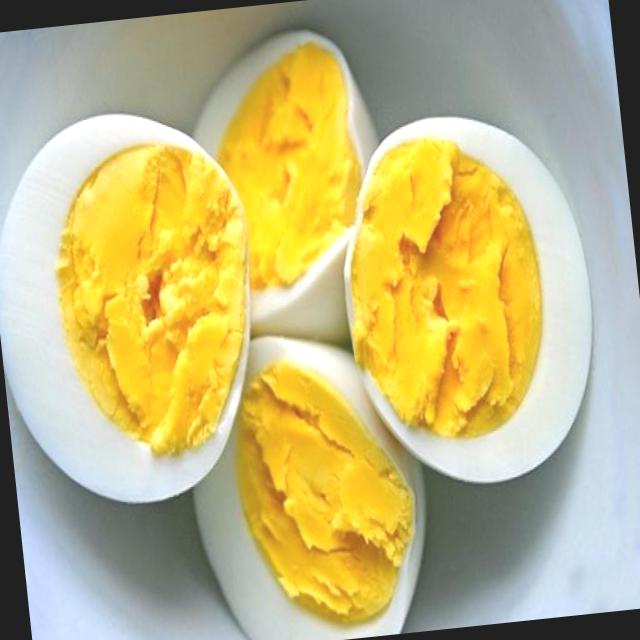trung luoc: (0, 113, 250, 502), (341, 116, 590, 482), (193, 336, 425, 640), (194, 30, 376, 341)
